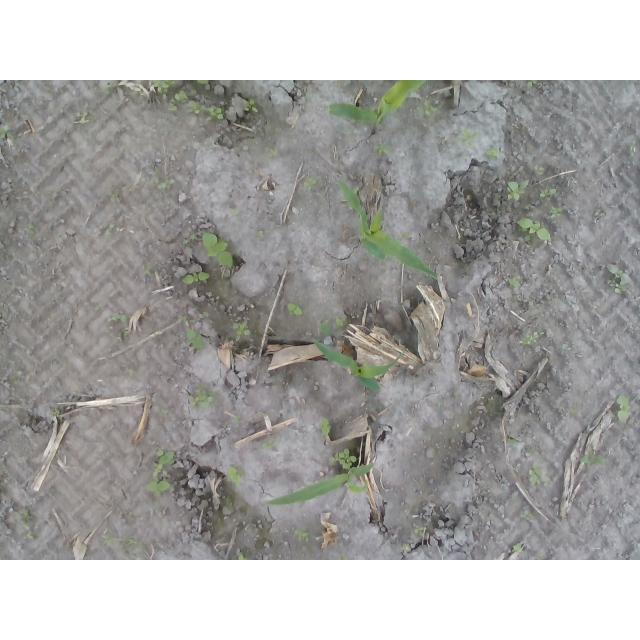Maize: (337, 177, 441, 279), (311, 338, 401, 393), (263, 462, 375, 506), (328, 80, 427, 129)
Weeds: (168, 81, 232, 124), (201, 232, 235, 269), (514, 216, 552, 242), (152, 447, 176, 481), (190, 383, 219, 410), (328, 447, 356, 470), (16, 509, 37, 539), (606, 263, 626, 293), (144, 479, 177, 497), (616, 392, 633, 425), (152, 169, 176, 191), (414, 100, 439, 121), (579, 448, 609, 465), (184, 328, 206, 351), (507, 180, 530, 200), (232, 319, 252, 342), (76, 104, 96, 127), (457, 127, 478, 148), (536, 183, 560, 201), (520, 329, 544, 347), (529, 462, 546, 486), (152, 80, 176, 97), (181, 271, 209, 285), (228, 463, 245, 486), (292, 527, 312, 543), (104, 223, 124, 239), (372, 143, 392, 157), (24, 224, 40, 241), (287, 303, 305, 318), (160, 407, 176, 423), (244, 96, 259, 113), (487, 146, 503, 161), (0, 126, 12, 146), (10, 368, 25, 384), (303, 176, 317, 192), (505, 434, 522, 447), (507, 275, 522, 289), (108, 311, 129, 321), (177, 313, 191, 327), (320, 321, 333, 336), (531, 164, 545, 177), (321, 416, 332, 432), (335, 318, 348, 331), (261, 440, 279, 449), (627, 144, 637, 160), (99, 85, 113, 96), (548, 208, 561, 219), (103, 535, 116, 546), (512, 543, 525, 553), (110, 192, 120, 205), (401, 543, 412, 553), (526, 80, 538, 89), (415, 526, 425, 536), (271, 147, 281, 157), (520, 511, 529, 522), (144, 266, 153, 277), (0, 402, 8, 414), (399, 232, 409, 241), (54, 407, 63, 417), (255, 231, 263, 242), (528, 200, 537, 209), (232, 208, 241, 217), (238, 553, 249, 560), (302, 91, 313, 98), (96, 304, 105, 312), (191, 232, 197, 244), (359, 486, 369, 493), (127, 539, 137, 546), (233, 416, 240, 423), (140, 91, 146, 97)
